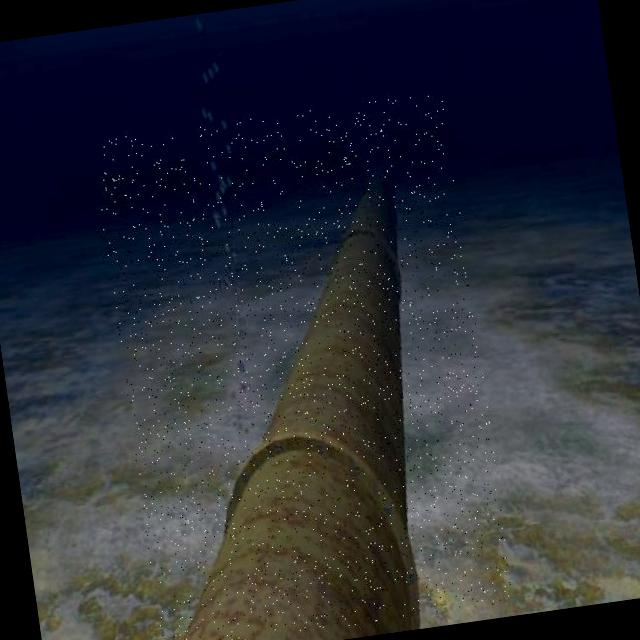gas: (184, 182, 419, 640)
